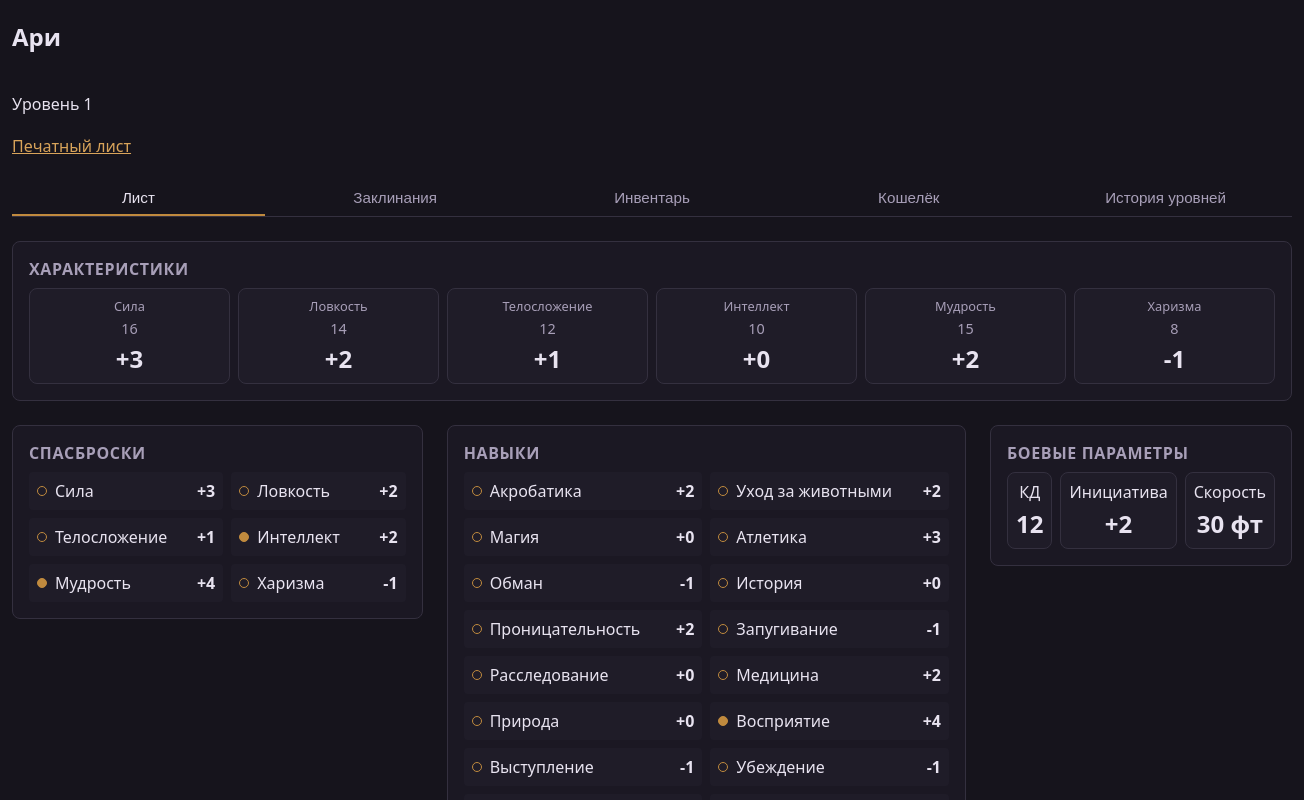
Scenario: CharacterSheetPage › switches to the wallet tab and shows the three currency fields
The image size is (1304, 800).
Expected: the heading "Ари" is shown, [12,20,61,53]
Click the tab "Кошелёк".
click(909, 198)  # box [782,181,1035,216]
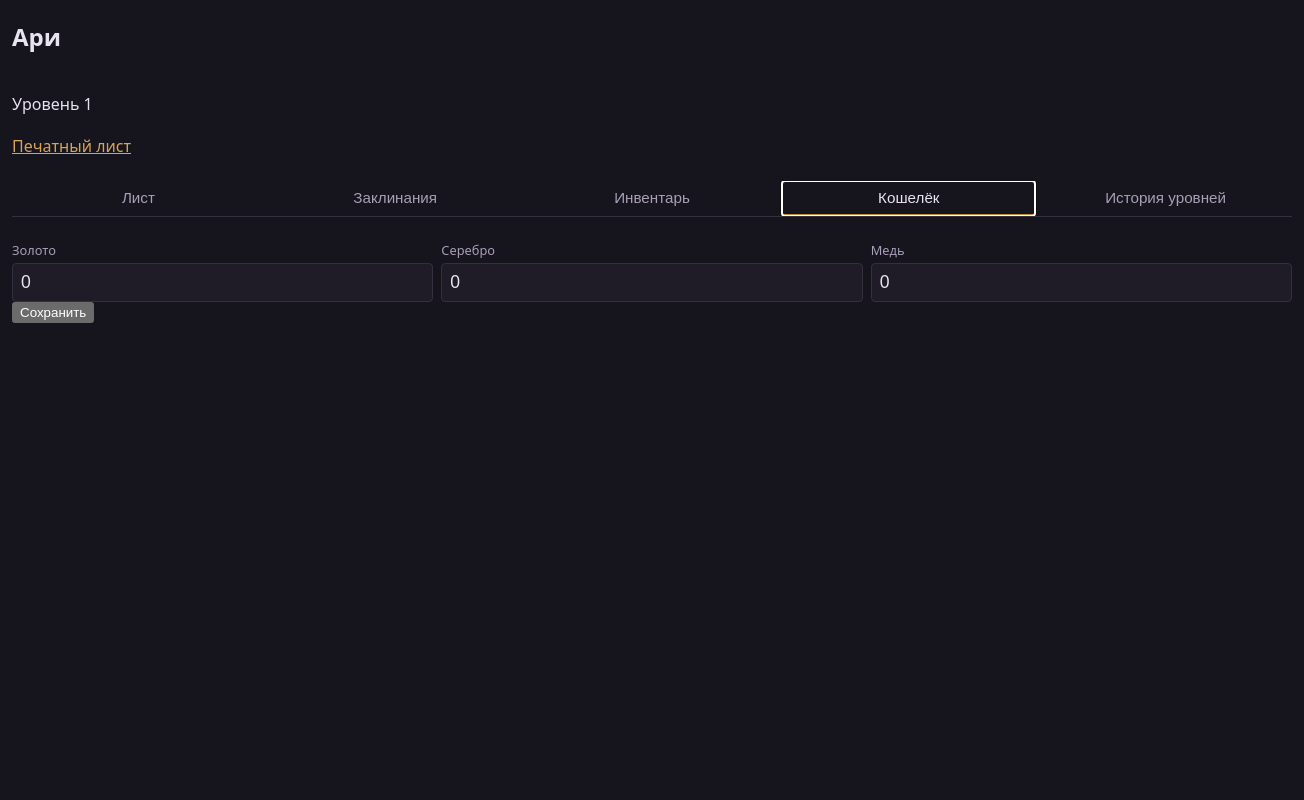
Expected: the number field labelled "Золото" is shown, [12,263,433,302]
Expected: the number field labelled "Серебро" is shown, [441,263,863,302]
Expected: the number field labelled "Медь" is shown, [871,263,1292,302]
